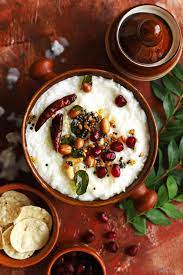curd_rice: (23, 66, 157, 202)
